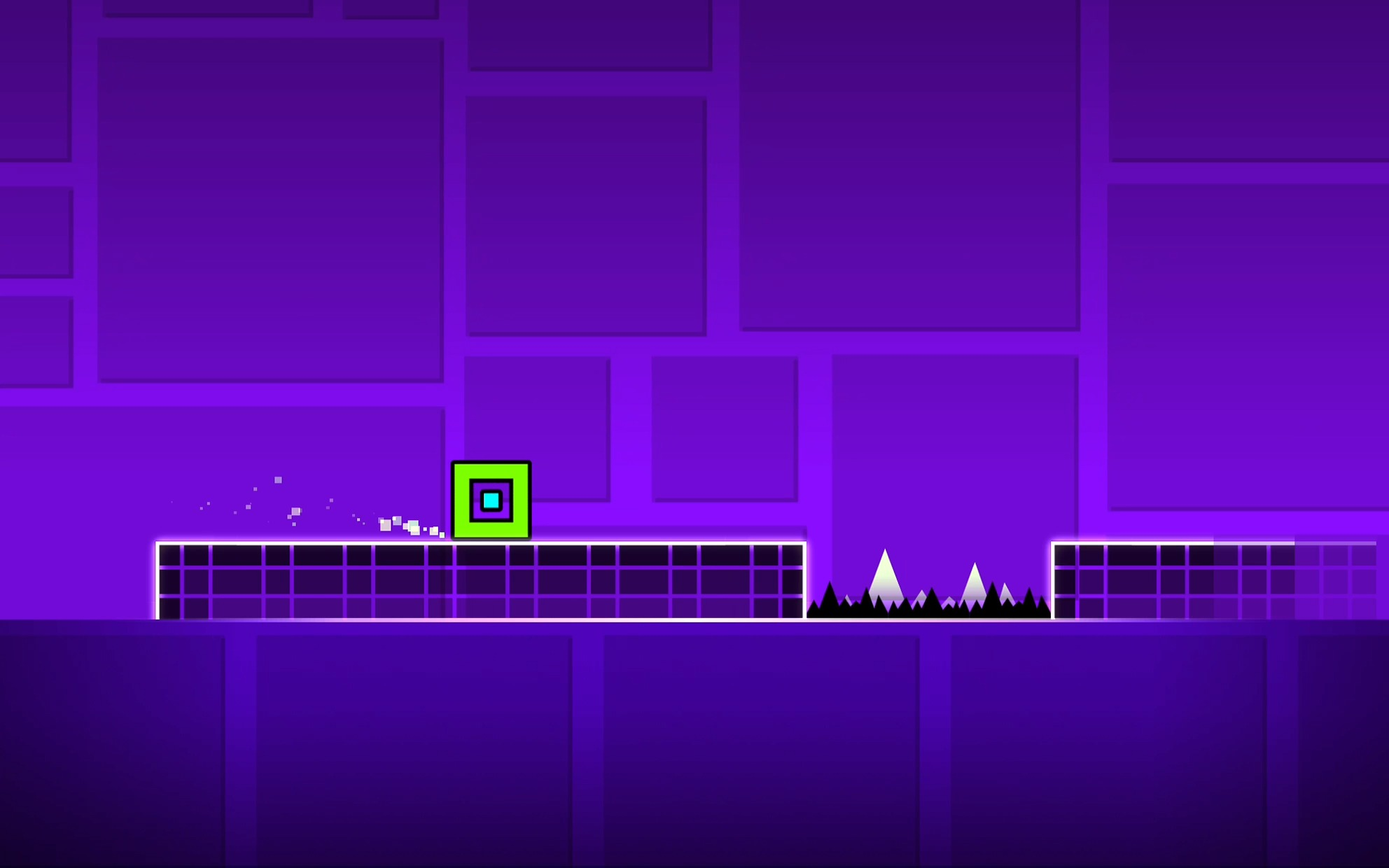Block2: (158, 540, 795, 615), (1052, 542, 1385, 617)
Player: (451, 461, 531, 539)
Spike3: (808, 582, 1049, 622)
